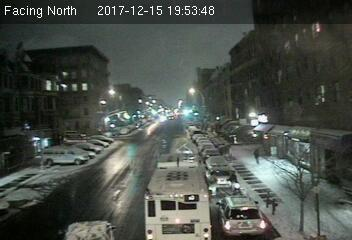bus: (145, 151, 212, 240)
car: (217, 195, 265, 237), (211, 168, 233, 191), (206, 156, 230, 169)
